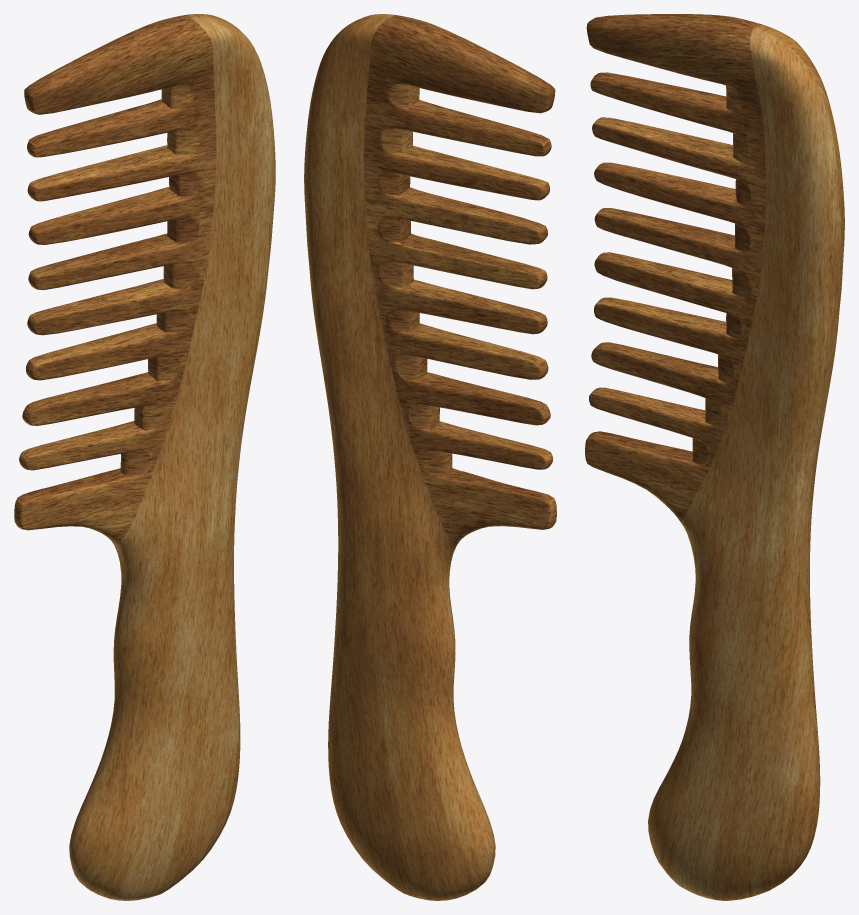
The model's file is wooden_comb_for_travel.glb.
3 renders of one model, left to right at view 1: azimuth 30°, elevation 25°; view 2: azimuth 150°, elevation 25°; view 3: azimuth 330°, elevation 25°, orthographic. The views are drawn at different scales.
Parts seen in each view (by area): view 1: SM_Comb; view 2: SM_Comb; view 3: SM_Comb.
Boxes of the visible parts, <box> form: SM_Comb: <box>14,14,275,900</box>; SM_Comb: <box>304,14,556,900</box>; SM_Comb: <box>585,14,844,900</box>.
Bounding box in the file's own units: 0.0526 × 0.1736 × 0.0144.
1 material, 1 textured.
